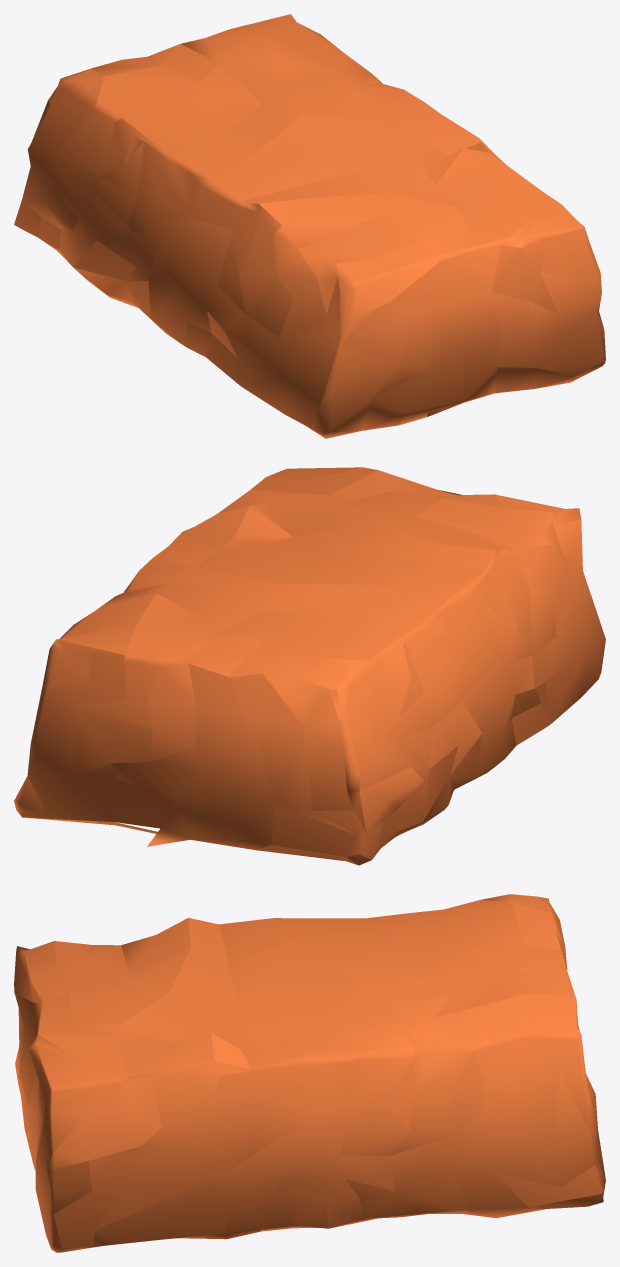
File: copper-ingot.glb
3 renders of one model, top to bottom at view 1: azimuth 30°, elevation 25°; view 2: azimuth 150°, elevation 25°; view 3: azimuth 270°, elevation 25°, orthographic. The views are drawn at different scales.
Parts seen in each view (by area): view 1: copper-ingot; view 2: copper-ingot; view 3: copper-ingot.
Part boxes in pixels (x1=…): copper-ingot: x1=14, y1=14, x2=605, y2=438; copper-ingot: x1=14, y1=467, x2=605, y2=865; copper-ingot: x1=14, y1=894, x2=605, y2=1252.
Bounding box in the file's own units: 0.9896 × 0.5528 × 1.39.
